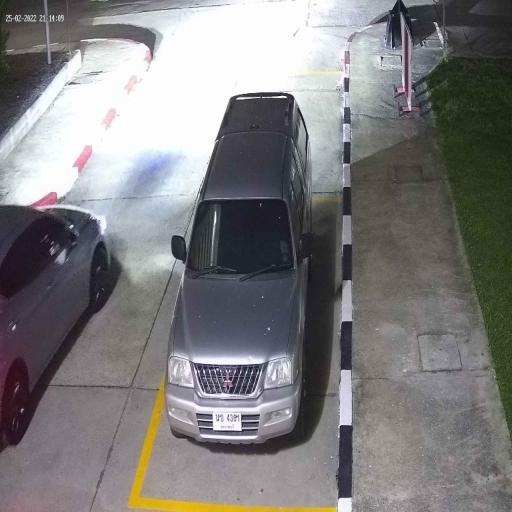car: (166, 90, 314, 450), (0, 201, 113, 445)
